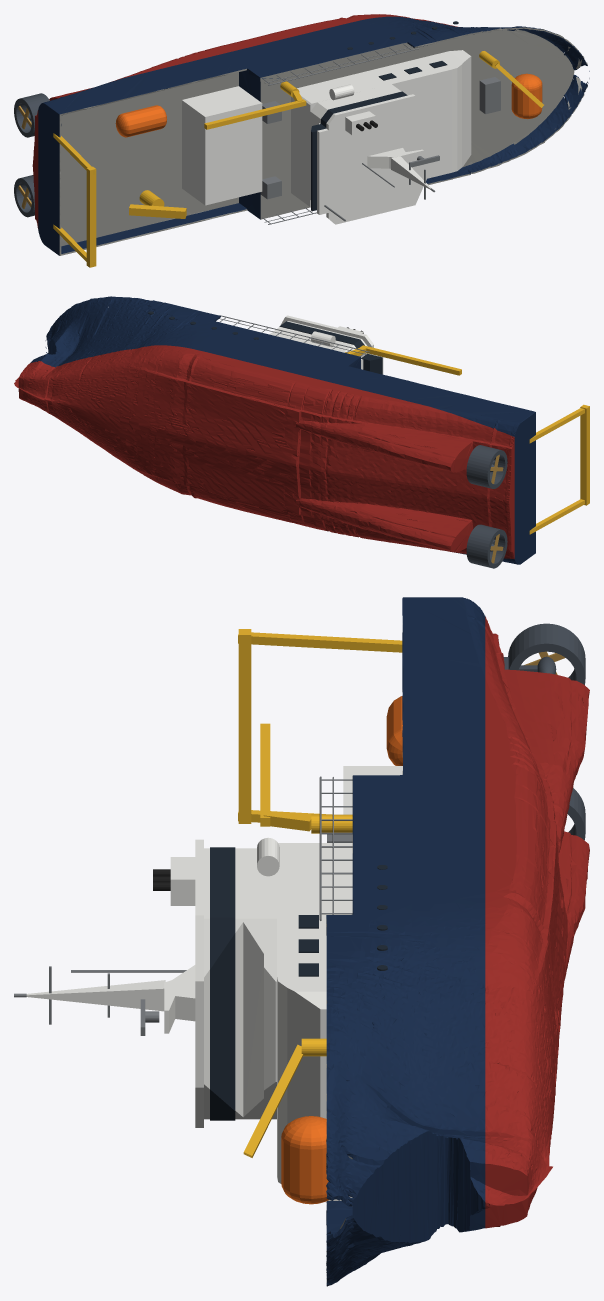
The model's file is Gunnerus_GA_image.obj.
The picture shows the model from 3 angles, top to bottom: view 1: azimuth 30°, elevation 25°; view 2: azimuth 150°, elevation 25°; view 3: azimuth 270°, elevation 25°; orthographic projection. The views are drawn at different scales.
Parts seen in each view (by area): view 1: Decks, Hull_topside, Wheelhouse, A-deck_house, Hangar, Hull_bottom, A-frame, Thrusters_(steel), Work_boat, Mast_(white), Rescue_boat, Wheelhouse_windows (+9 smaller); view 2: Hull_bottom, Hull_topside, Thrusters_(steel), A-frame, Wheelhouse, Wheelhouse_windows, A-deck_crane, Bridge_deck_house, Railings; view 3: Hull_topside, Hull_bottom, A-deck_house, Bridge_deck_house, Wheelhouse_windows, Wheelhouse, A-frame, Mast_(white), Rescue_boat, Thrusters_(steel), A-deck_crane, Forecastle_crane (+6 smaller).
Part boxes in pixels (<box>): Decks: <box>59,27,587,255</box>; Hull_topside: <box>38,16,589,255</box>; Wheelhouse: <box>317,90,428,224</box>; A-deck_house: <box>291,50,471,207</box>; Hangar: <box>182,86,262,205</box>; Hull_bottom: <box>32,14,457,228</box>; A-frame: <box>53,133,96,267</box>; Thrusters_(steel): <box>14,93,49,217</box>; Work_boat: <box>115,105,166,137</box>; Mast_(white): <box>367,148,431,189</box>; Rescue_boat: <box>511,73,542,119</box>; Wheelhouse_windows: <box>311,91,407,211</box>; Hull_bottom: <box>14,345,514,559</box>; Hull_topside: <box>30,296,535,564</box>; Thrusters_(steel): <box>466,445,507,568</box>; A-frame: <box>529,404,589,534</box>; Wheelhouse: <box>278,315,383,374</box>; Wheelhouse_windows: <box>279,321,382,374</box>; A-deck_crane: <box>345,345,461,375</box>; Bridge_deck_house: <box>269,328,353,352</box>; Railings: <box>219,315,369,356</box>; Hull_topside: <box>326,597,485,1286</box>; Hull_bottom: <box>485,616,589,1228</box>; A-deck_house: <box>277,843,352,1200</box>; Bridge_deck_house: <box>243,848,276,1119</box>; Wheelhouse_windows: <box>210,847,235,1120</box>; Wheelhouse: <box>195,839,243,1127</box>; A-frame: <box>238,629,402,823</box>; Mast_(white): <box>26,965,195,1033</box>; Rescue_boat: <box>281,1116,328,1204</box>; Thrusters_(steel): <box>503,623,585,840</box>; A-deck_crane: <box>260,723,352,833</box>; Forecastle_crane: <box>243,1038,326,1157</box>.
Bounding box in the file's own units: 37.1 × 9.66 × 18.21.
